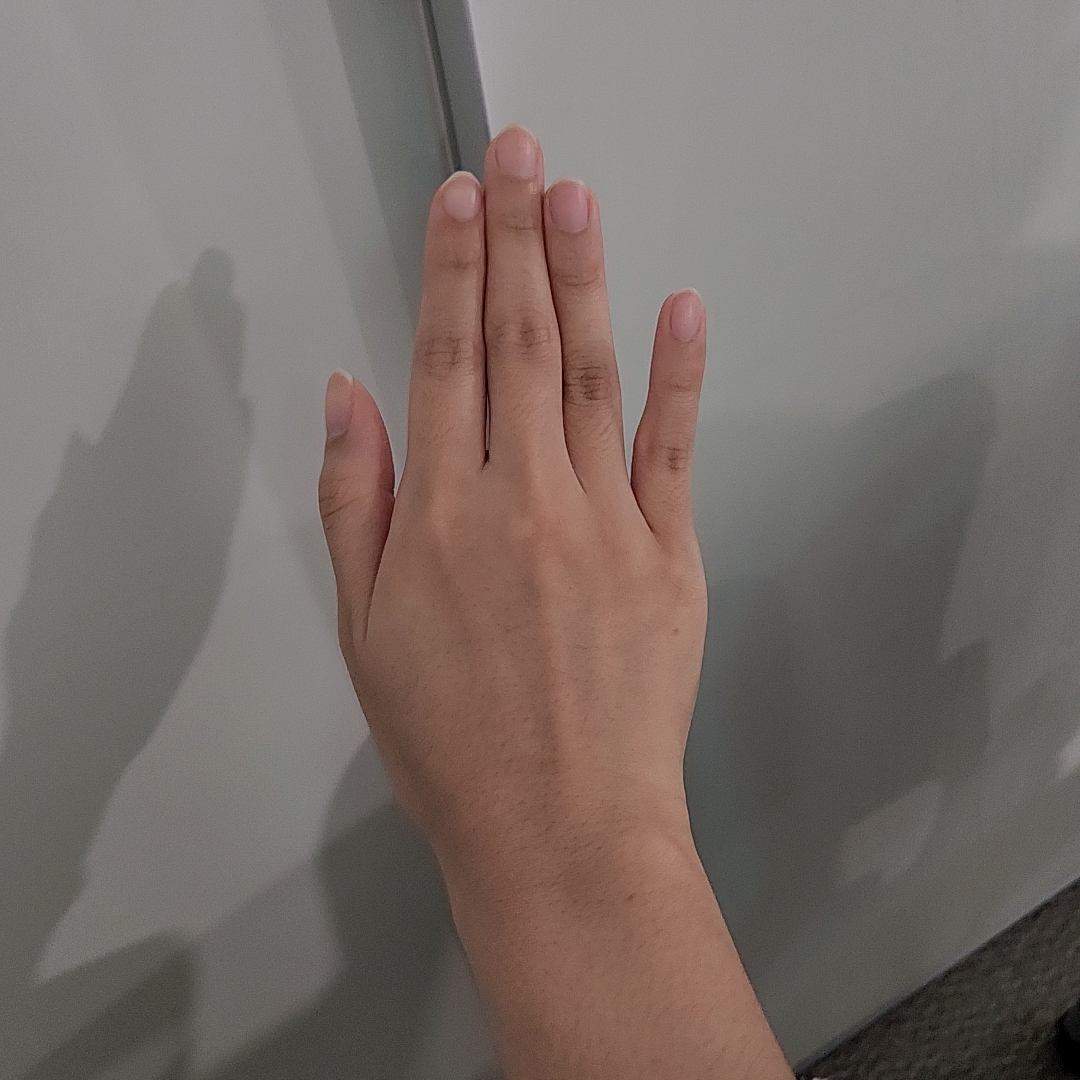me: (314, 124, 714, 830)
